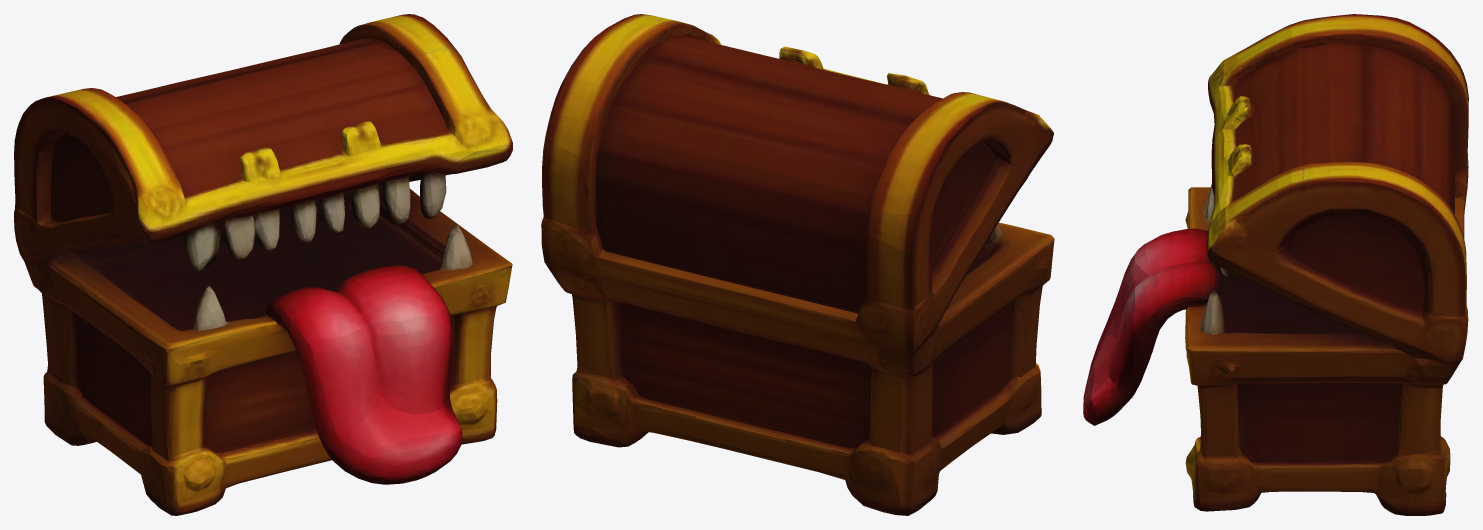
Rendered from trap_chest.glb.
3 renders of one model, left to right at view 1: azimuth 30°, elevation 25°; view 2: azimuth 150°, elevation 25°; view 3: azimuth 270°, elevation 25°, orthographic. The views are drawn at different scales.
Parts seen in each view (by area): view 1: world.001; view 2: world.001; view 3: world.001.
Part boxes in pixels (left/top/right/bottom): world.001: left=14, top=14, right=512, bottom=515; world.001: left=541, top=14, right=1054, bottom=515; world.001: left=1083, top=14, right=1468, bottom=515.
Bounding box in the file's own units: 0.4892 × 0.4541 × 0.4603.
1 material, 1 textured.
